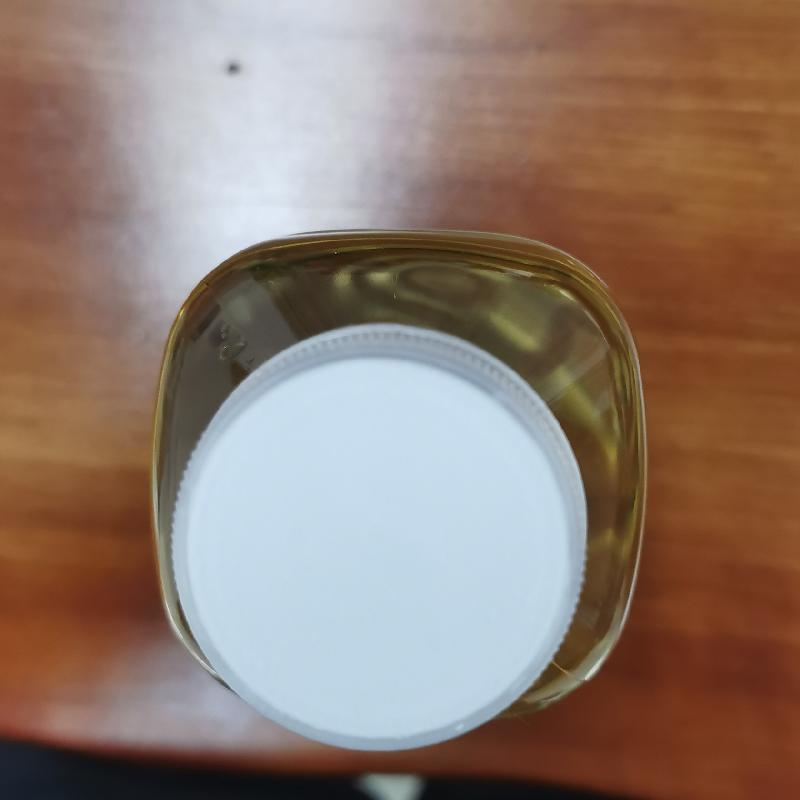bottles: (147, 218, 654, 759)
